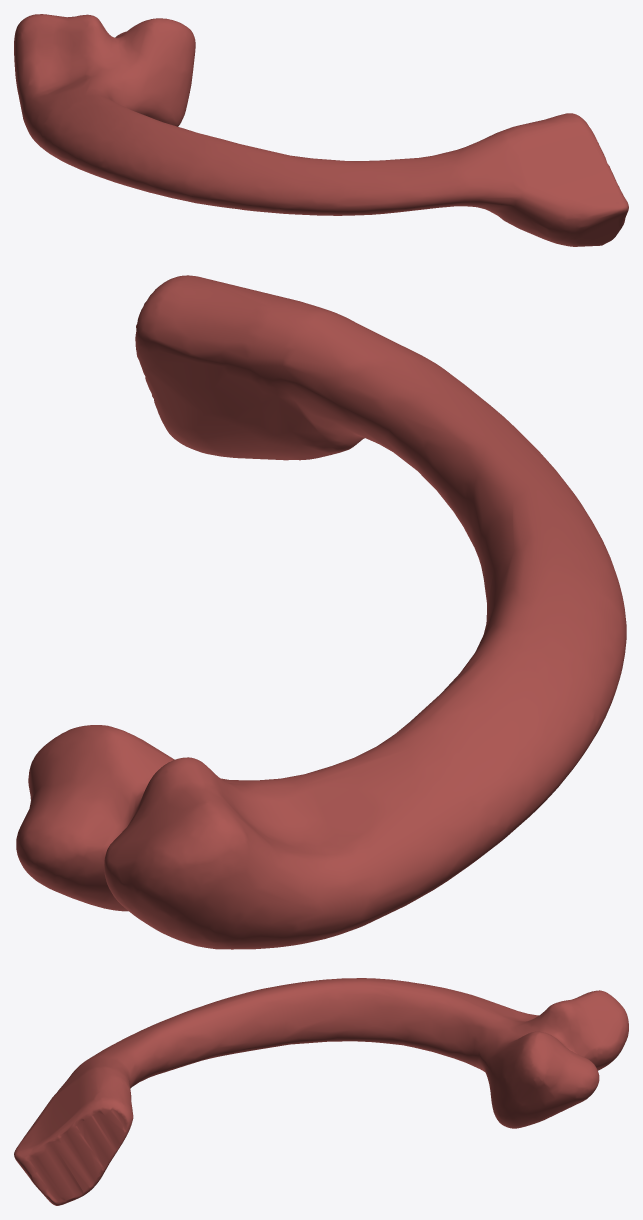
The model's file is FMA62382.glb.
3 renders of one model, top to bottom at view 1: azimuth 30°, elevation 25°; view 2: azimuth 150°, elevation 25°; view 3: azimuth 270°, elevation 25°, orthographic. The views are drawn at different scales.
Parts seen in each view (by area): view 1: FMA62382; view 2: FMA62382; view 3: FMA62382.
Part boxes in pixels (x1,y1,x2,y2): FMA62382: [14, 14, 628, 246]; FMA62382: [16, 275, 626, 949]; FMA62382: [14, 978, 628, 1205].
Bounding box in the file's own units: 0.0234 × 0.00759 × 0.0357.
